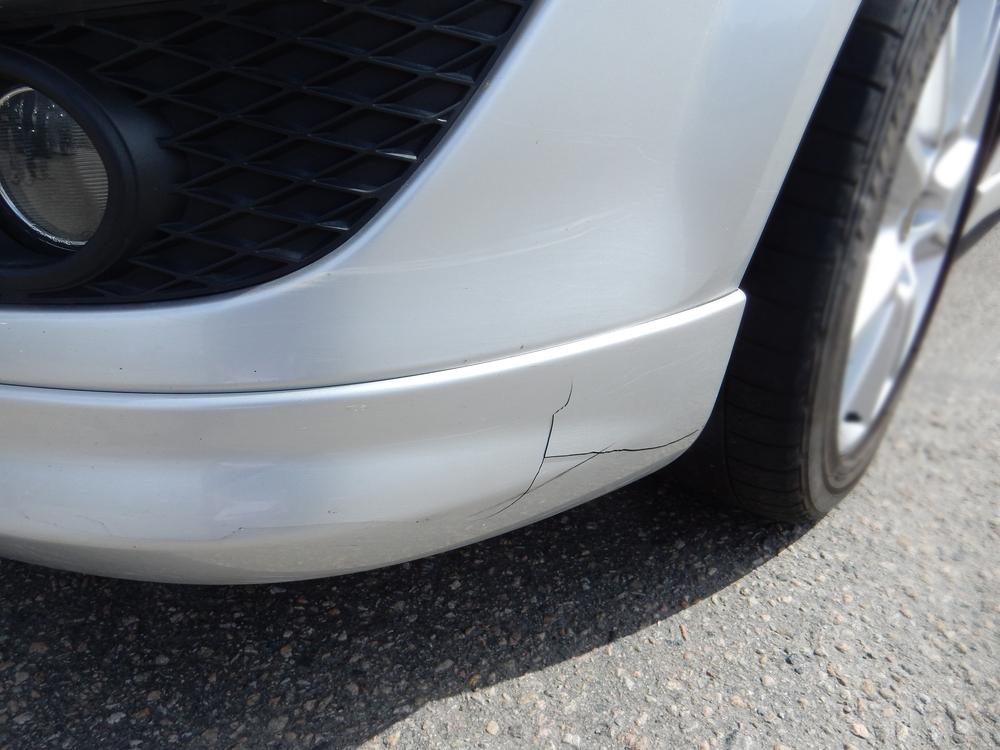crack: (482, 383, 702, 520)
